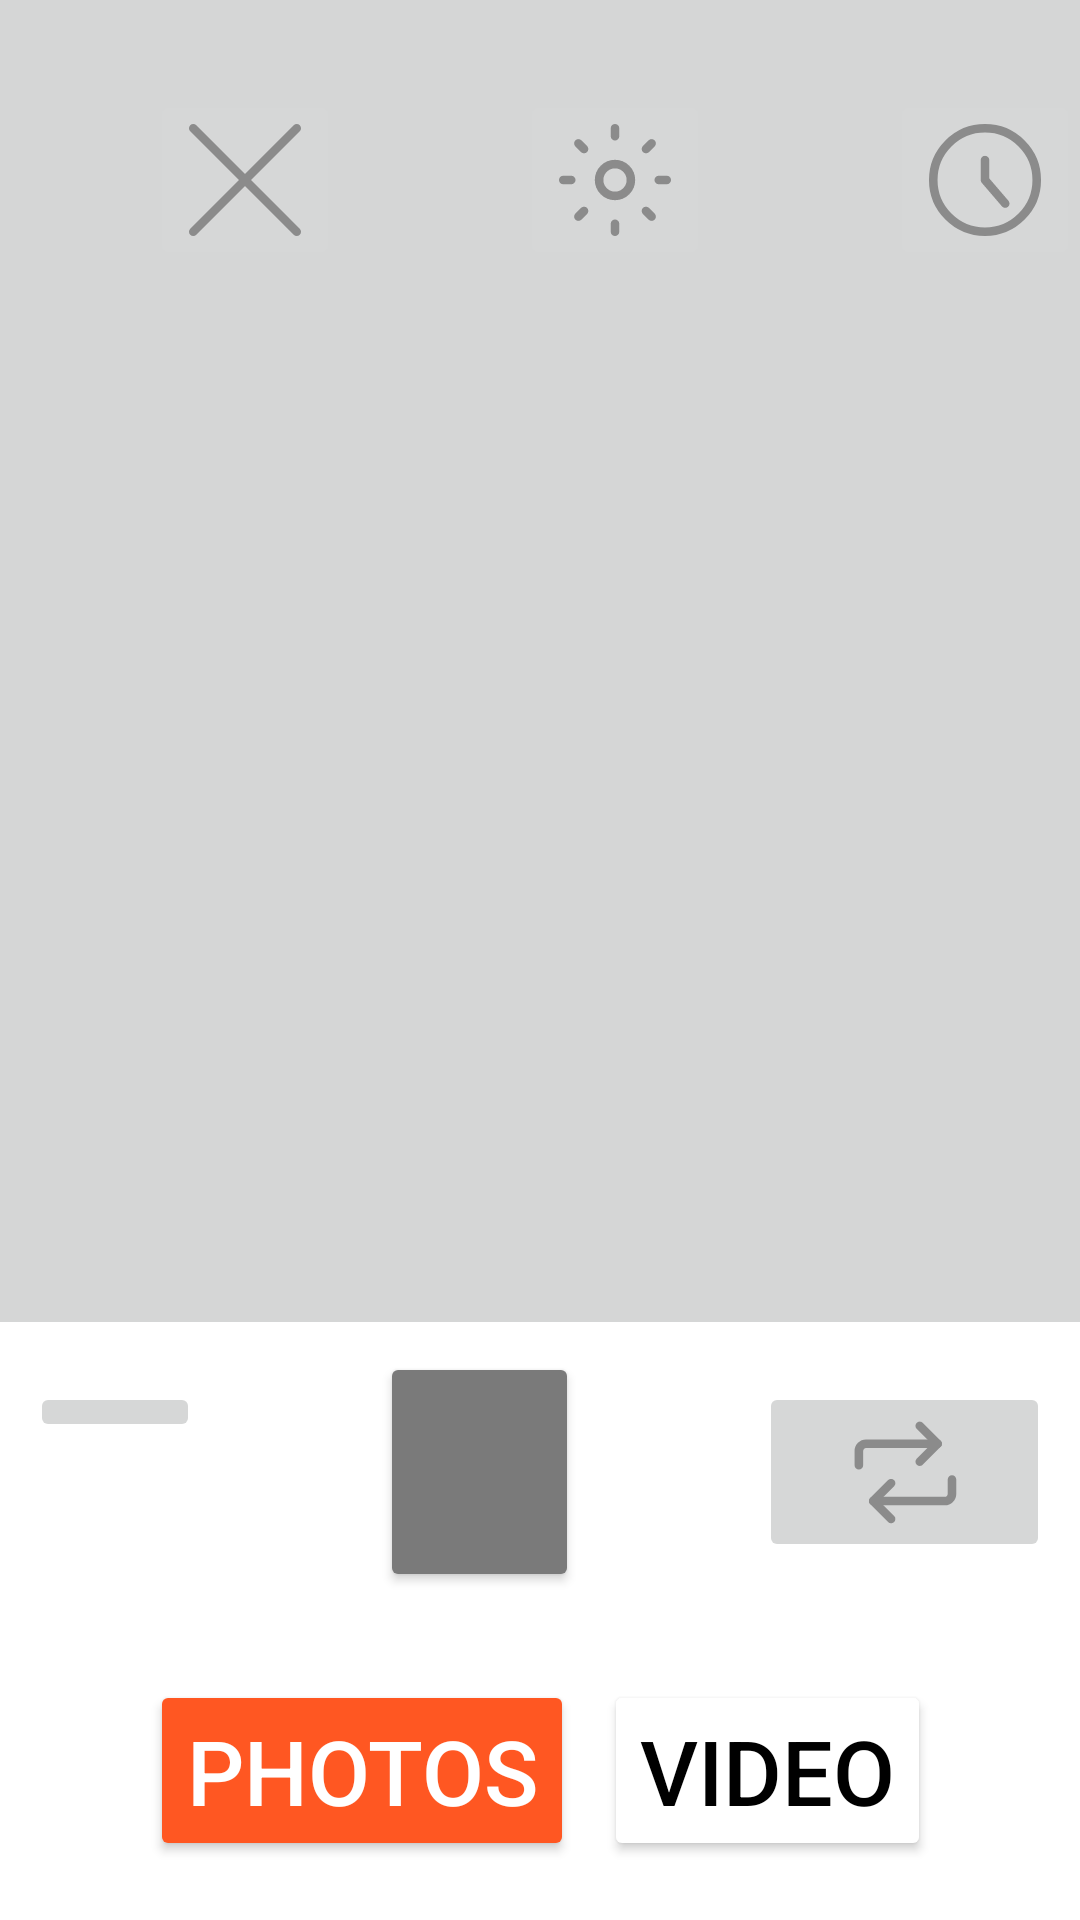

Named icons in this screenshot (1080×1920) and their bounding boxes, (x1,y1,x2,y2):
Brightness: (559,124,671,236)
Timer: (929,124,1041,236)
